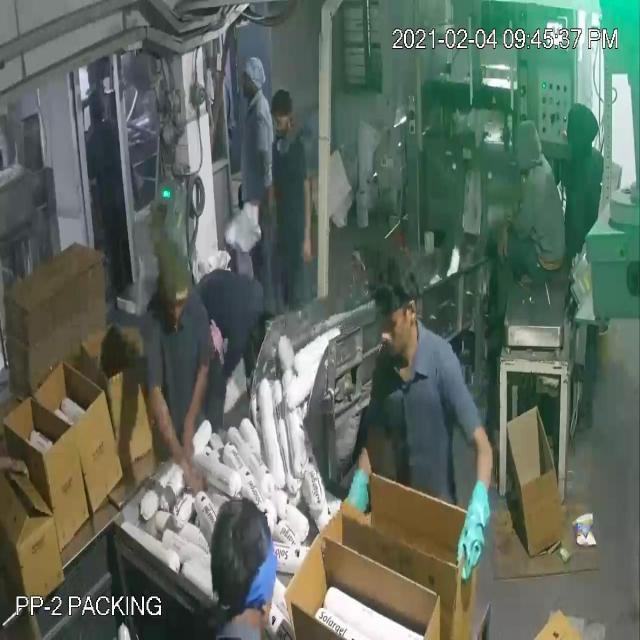No_Gloves: (22, 63, 506, 527)
